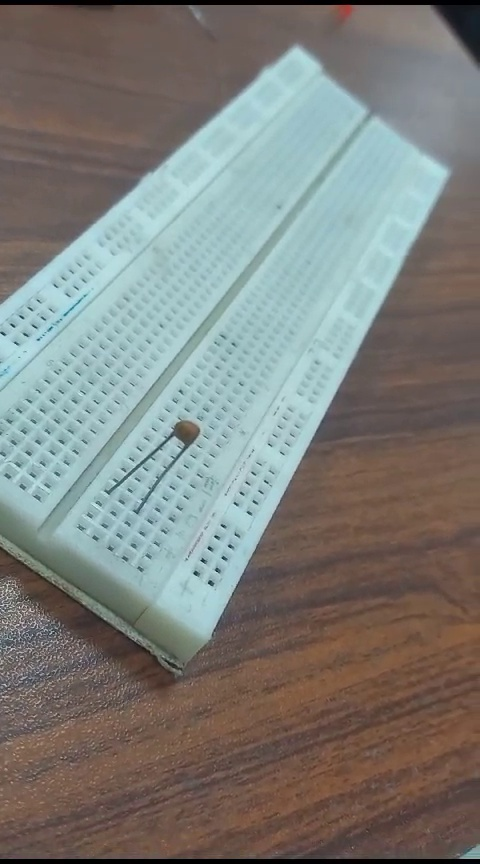ceramic capacitor: (107, 412, 214, 520)
